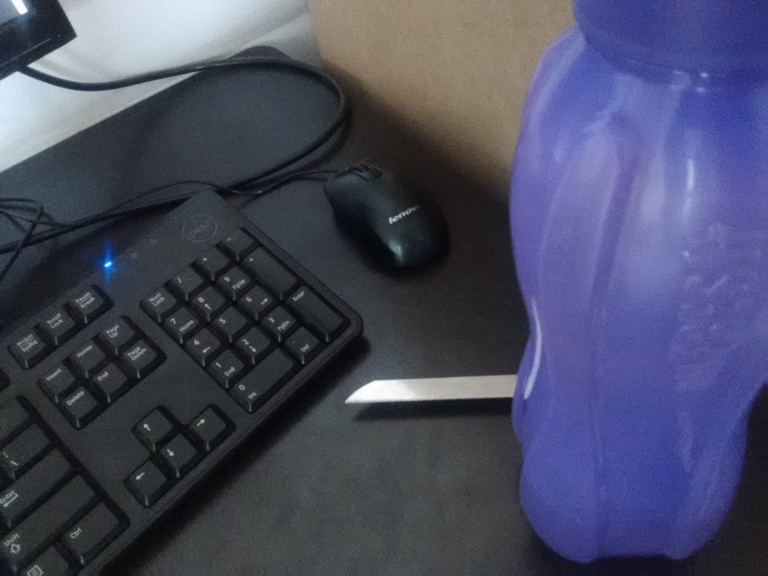knife: (343, 371, 512, 402)
